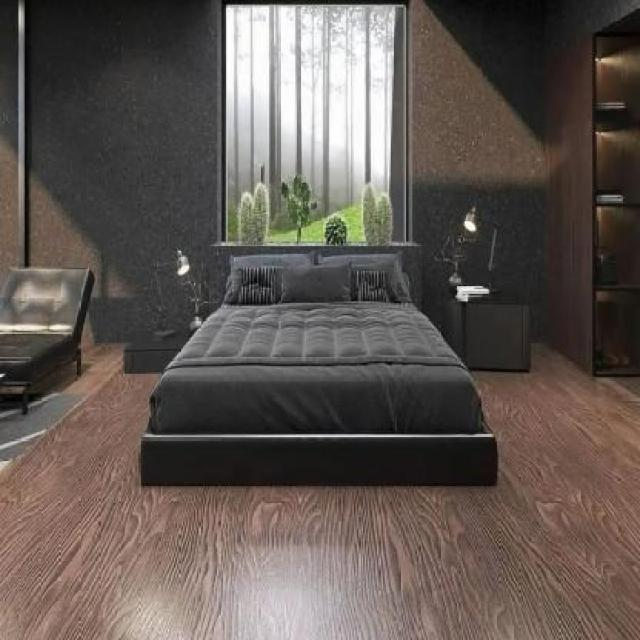floor: (0, 339, 640, 640)
